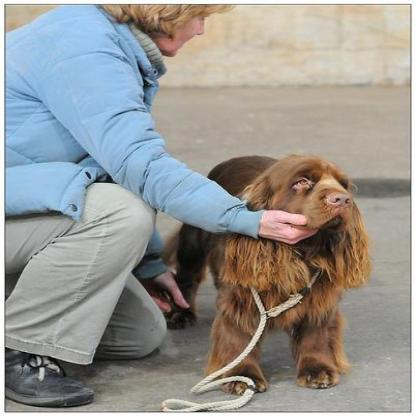Sussex_spaniel: (158, 153, 372, 389)
